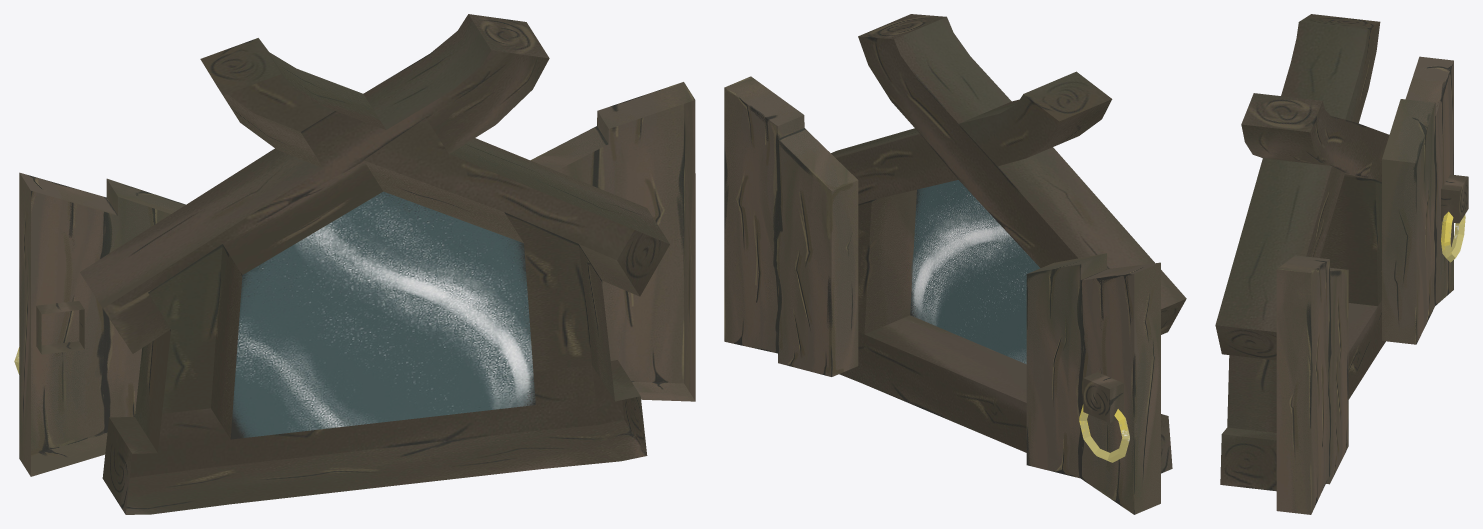
File: polysurface526_txt_fenetre_new_0_lev1_lev2.glb
3 renders of one model, left to right at view 1: azimuth 30°, elevation 25°; view 2: azimuth 150°, elevation 25°; view 3: azimuth 270°, elevation 25°, orthographic. The views are drawn at different scales.
Visible parts, largest first — view 1: polysurface526_txt_fenetre_new_0_lev1_lev2; view 2: polysurface526_txt_fenetre_new_0_lev1_lev2; view 3: polysurface526_txt_fenetre_new_0_lev1_lev2.
Boxes of the visible parts, box(x1,y1,x2,y2) form: polysurface526_txt_fenetre_new_0_lev1_lev2: box(14, 14, 695, 514); polysurface526_txt_fenetre_new_0_lev1_lev2: box(724, 14, 1186, 514); polysurface526_txt_fenetre_new_0_lev1_lev2: box(1215, 14, 1468, 514).
Bounding box in the file's own units: 2.51 × 1.74 × 1.17.
1 material, 1 textured.
